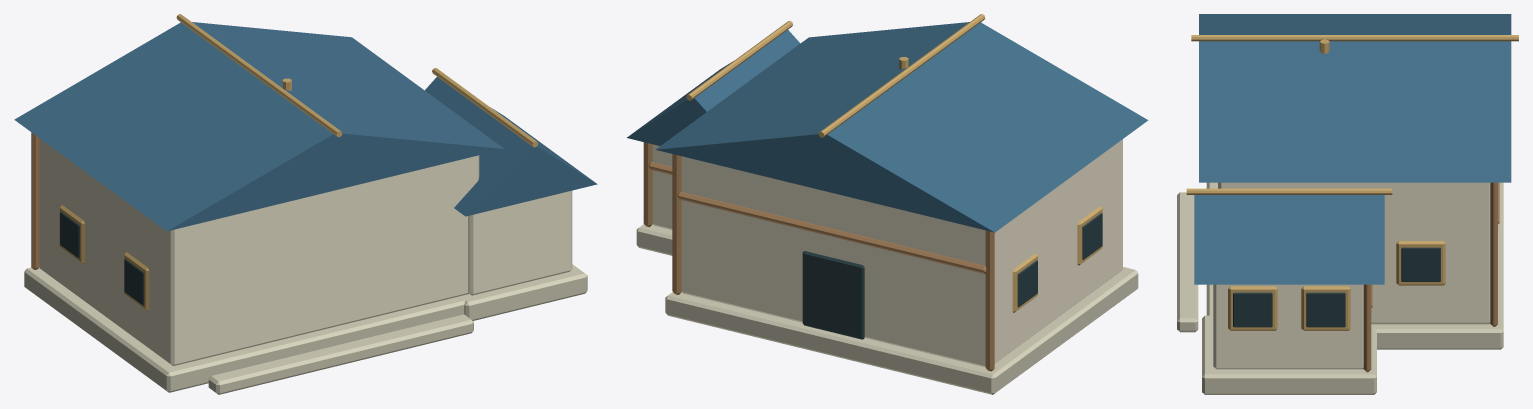
The model's file is level_12.glb.
3 renders of one model, left to right at view 1: azimuth 30°, elevation 25°; view 2: azimuth 150°, elevation 25°; view 3: azimuth 270°, elevation 25°, orthographic. The views are drawn at different scales.
Visible parts, largest first — view 1: warehouse — level 12; view 2: warehouse — level 12; view 3: warehouse — level 12.
Boxes of the visible parts, bbox=[...] form: warehouse — level 12: bbox=[14, 14, 597, 394]; warehouse — level 12: bbox=[627, 14, 1148, 394]; warehouse — level 12: bbox=[1177, 14, 1518, 394].
Size of the model in its own units: 6.64 by 3.39 by 4.49.
